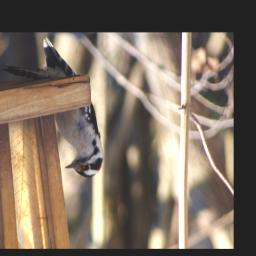Woodpecker: (2, 39, 104, 178)
